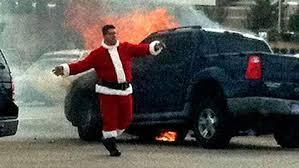fire: (86, 13, 182, 43), (154, 122, 180, 144)
